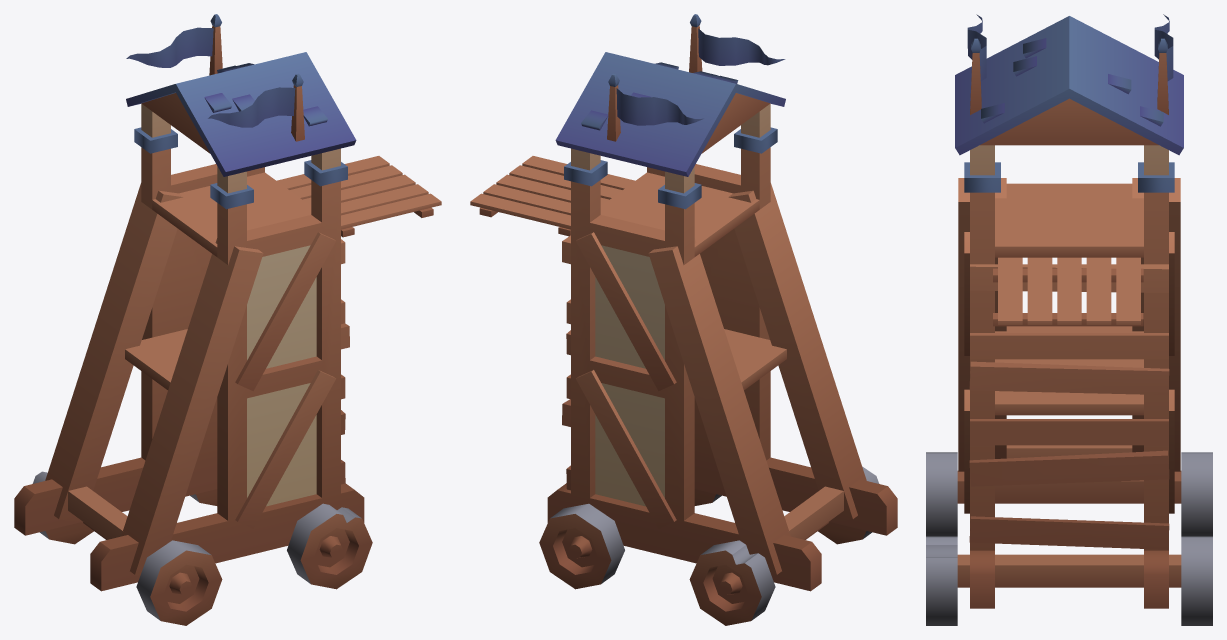
File: siege-tower.glb
3 renders of one model, left to right at view 1: azimuth 30°, elevation 25°; view 2: azimuth 150°, elevation 25°; view 3: azimuth 270°, elevation 25°, orthographic. The views are drawn at different scales.
Visible parts, largest first — view 1: siege-tower; view 2: siege-tower; view 3: siege-tower.
Boxes of the visible parts, left/top/right/bottom form: siege-tower: left=14, top=14, right=441, bottom=625; siege-tower: left=470, top=14, right=897, bottom=625; siege-tower: left=926, top=14, right=1212, bottom=625.
Size of the model in its own units: 5.87 by 8 by 3.61.
